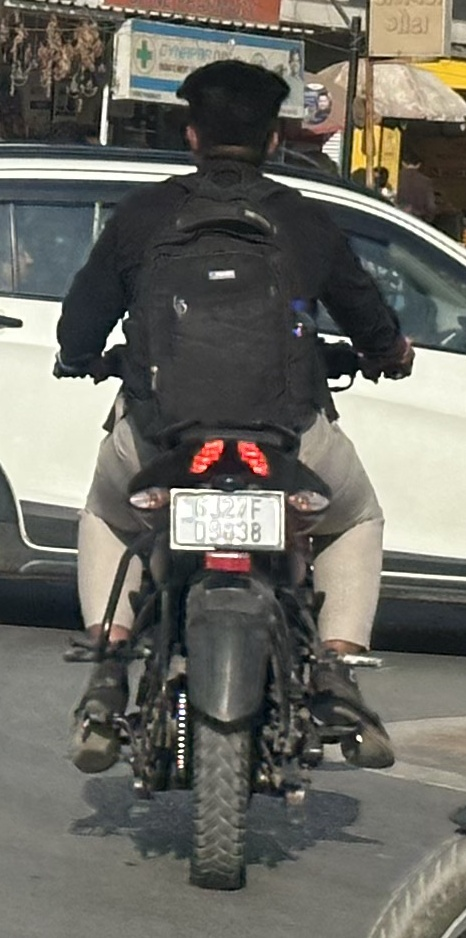BikeWithRider: (41, 45, 425, 900)
NoHelmet: (161, 49, 301, 183)
